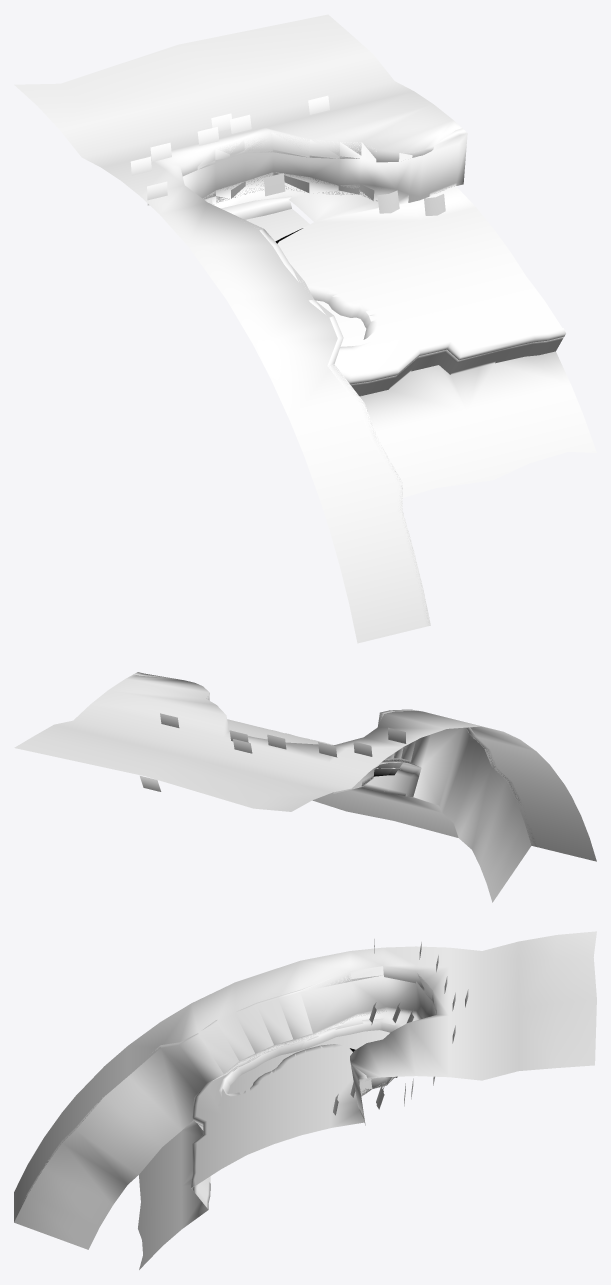
The model's file is grd_Dtn_nw_1.dae.
3 views of the same model, one above another, from view 1: azimuth 30°, elevation 25°; view 2: azimuth 150°, elevation 25°; view 3: azimuth 270°, elevation 25° (orthographic). The views are drawn at different scales.
Parts seen in each view (by area): view 1: grd_Dtn_nw_1; view 2: grd_Dtn_nw_1; view 3: grd_Dtn_nw_1.
Part boxes in pixels (bbox=[...]): grd_Dtn_nw_1: bbox=[14, 14, 596, 643]; grd_Dtn_nw_1: bbox=[14, 672, 596, 902]; grd_Dtn_nw_1: bbox=[14, 931, 596, 1269].
Bounding box in the file's own units: 672 × 696 × 1277.
Materials: 8 (1 with a texture image).
